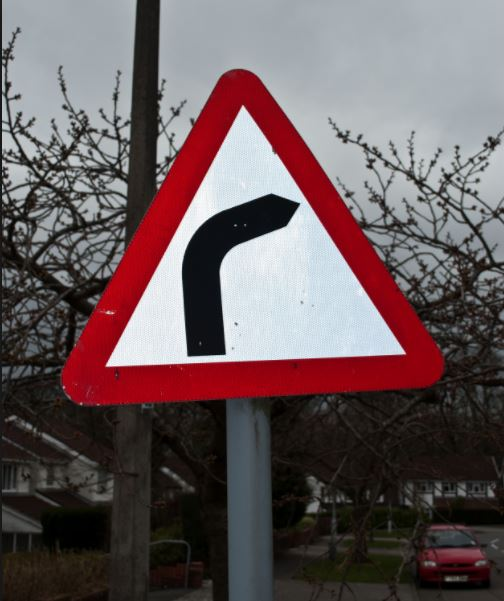Bend_to_right: (45, 58, 458, 409)
